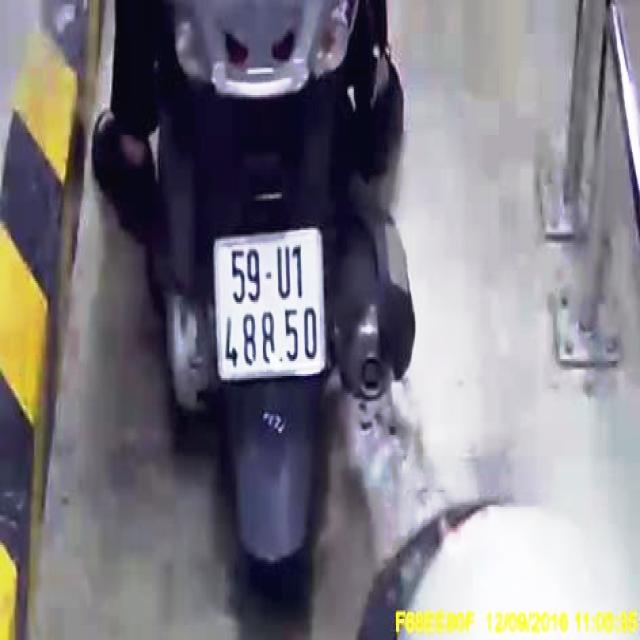license_plate: (215, 232, 327, 374)
